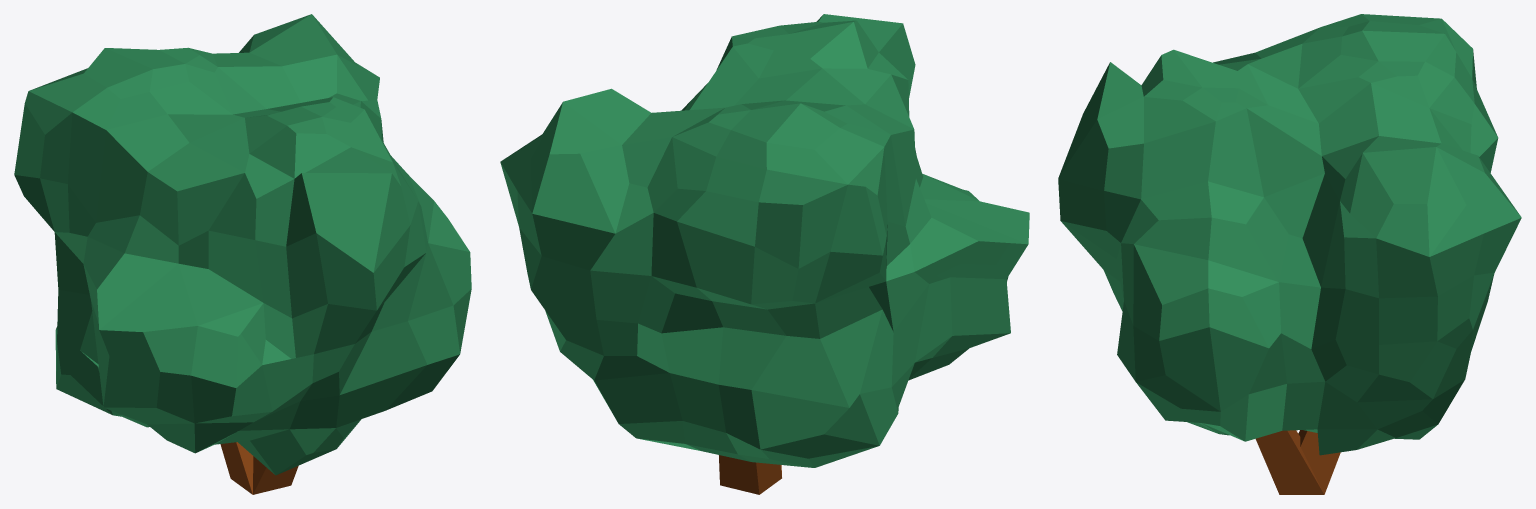
File: bush-3.glb
3 renders of one model, left to right at view 1: azimuth 30°, elevation 25°; view 2: azimuth 150°, elevation 25°; view 3: azimuth 270°, elevation 25°, orthographic. The views are drawn at different scales.
Visible parts, largest first — view 1: bush-3; view 2: bush-3; view 3: bush-3.
Boxes of the visible parts, box(x1,y1,x2,y2) form: bush-3: box(14, 14, 471, 494); bush-3: box(500, 14, 1029, 494); bush-3: box(1058, 14, 1521, 494).
Size of the model in its own units: 1.69 by 1.67 by 1.68.
